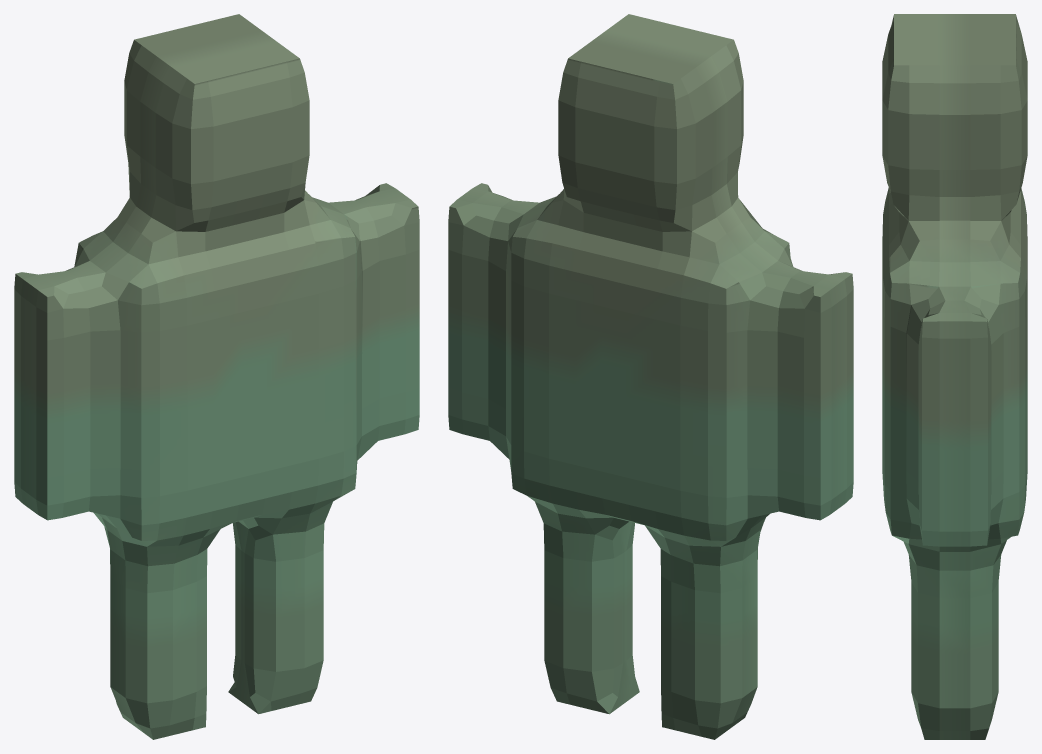
File: necromancer.glb
The picture shows the model from 3 angles, left to right: view 1: azimuth 30°, elevation 25°; view 2: azimuth 150°, elevation 25°; view 3: azimuth 270°, elevation 25°; orthographic projection.
Visible parts, largest first — view 1: geometry_0; view 2: geometry_0; view 3: geometry_0.
Part boxes in pixels (x1,y1,x2,y2): geometry_0: (14, 14, 419, 739); geometry_0: (448, 14, 853, 739); geometry_0: (882, 14, 1027, 739).
Size of the model in its own units: 0.597 by 1 by 0.199.
1 material, 1 textured.
